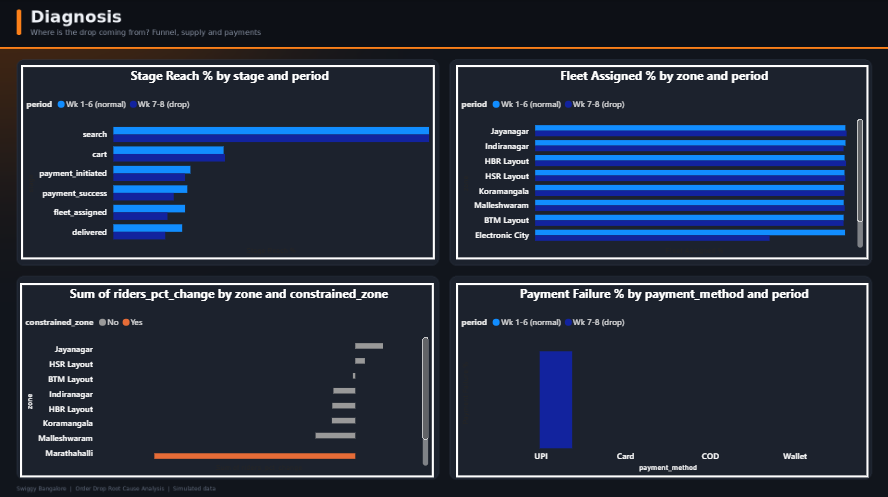

What the dashboard file says about the page in this screenshot:
{"tool":"powerbi","page":{"name":"Page 2","canvas":[1280,720],"ordinal":1},"visuals":[{"type":"clusteredBarChart","fields":{"Y":["funnel.Stage Reach %"],"Category":["funnel.stage"],"Series":["funnel.period"]},"box":[29.6,94.8,595.6,280],"z":0},{"type":"clusteredBarChart","fields":{"Category":["funnel.zone"],"Y":["funnel.Fleet Assigned %"],"Series":["funnel.period"]},"box":[656.3,94.8,594.1,280],"z":1},{"type":"clusteredBarChart","fields":{"Category":["riders_zone.zone"],"Y":["Sum(riders_zone.riders_pct_change)"],"Series":["riders_zone.constrained_zone"]},"box":[28.1,408.9,596,280],"z":2},{"type":"clusteredColumnChart","fields":{"Category":["daily_zone.payment_method"],"Y":["daily_zone.Payment Failure %"],"Series":["daily_zone.period"]},"box":[656,409,594,280],"z":3}]}

Visuals, with their boxes in screenshot pixels (x1, y1, x2, y2):
clusteredBarChart - funnel.Stage Reach % x funnel.stage: pyautogui.locateOnScreen(27, 67, 433, 258)
clusteredBarChart - funnel.zone x funnel.Fleet Assigned %: pyautogui.locateOnScreen(454, 67, 858, 258)
clusteredBarChart - riders_zone.zone x Sum(riders_zone.riders_pct_change): pyautogui.locateOnScreen(26, 281, 432, 471)
clusteredColumnChart - daily_zone.payment_method x daily_zone.Payment Failure %: pyautogui.locateOnScreen(454, 281, 858, 472)
